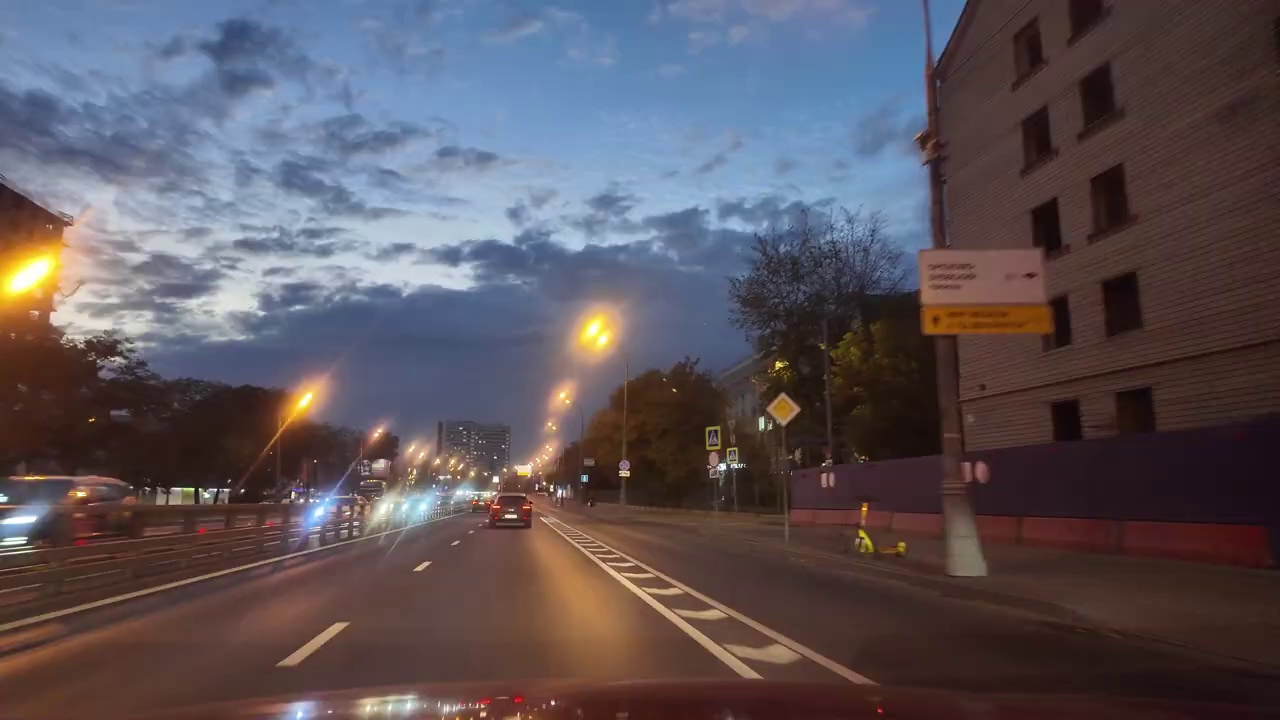acesa: (0, 244, 69, 315), (281, 378, 329, 430), (572, 311, 618, 358)
